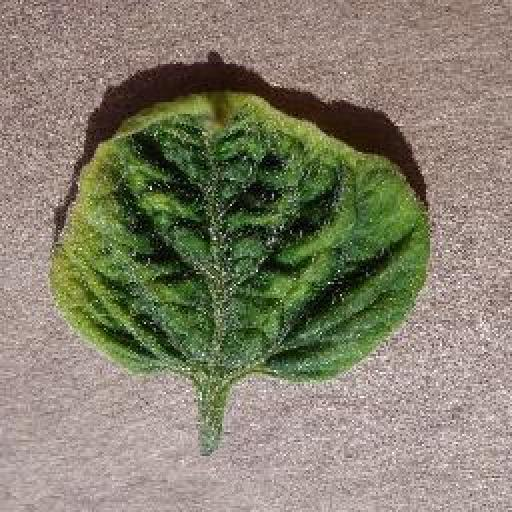disease_tomato: (49, 87, 435, 388)
